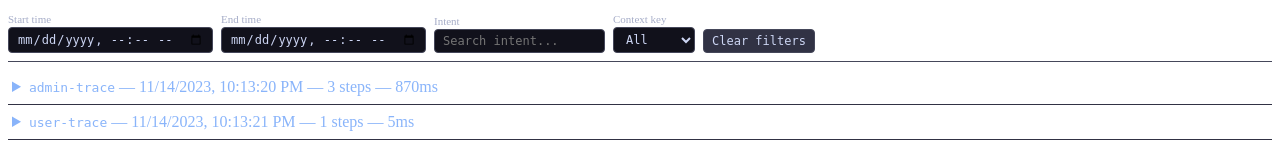
Test case: TraceTab › filter by context attribute › filters by context attribute key-value
The width and height of the screenshot is (1280, 160).
Select "role" in the dropdown named "Filter by context key". click: (654, 40)
box: [613,27,695,53]
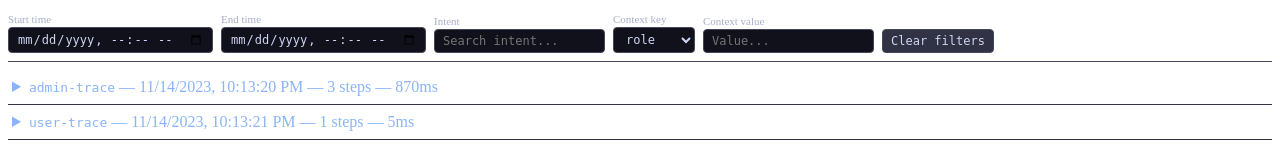
Type "admin" into the field named "Filter by context value". click: (788, 41)
box: [703,29,874,53]
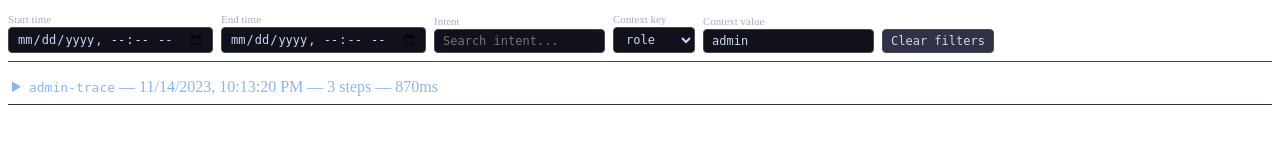
Expected: the text "admin-trace" is shown, [29,80,115,95]
Result: the heading "user-trace" is gone
